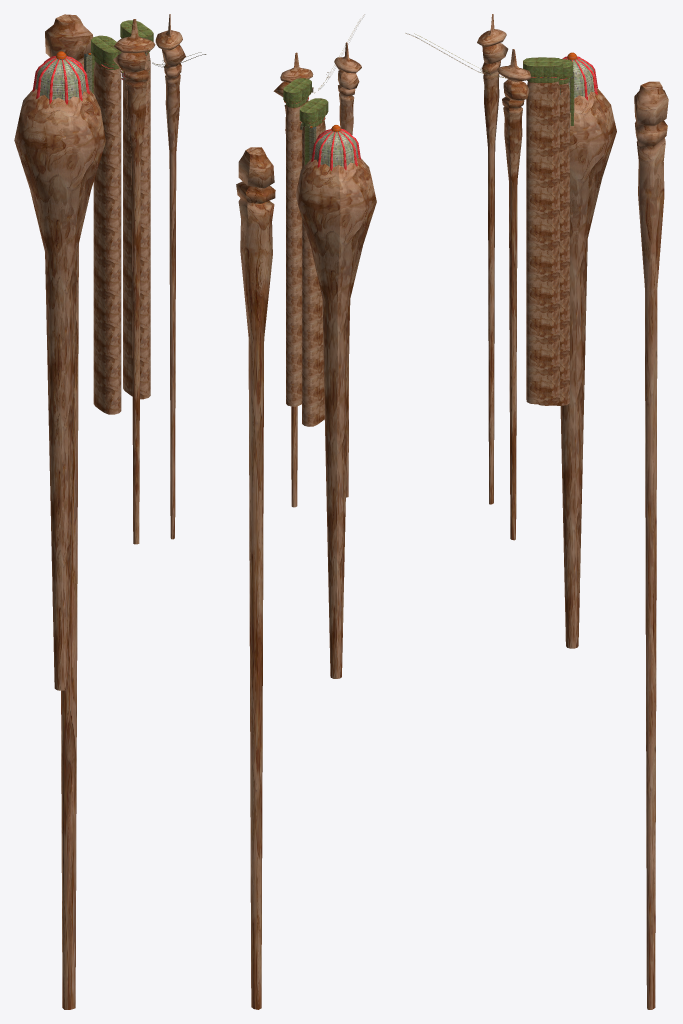
Rendered from Bullet Station 8.fbx.
3 views of the same model, side by side, from view 1: azimuth 30°, elevation 25°; view 2: azimuth 150°, elevation 25°; view 3: azimuth 270°, elevation 25° (orthographic). The views are drawn at different scales.
Visible parts, largest first — view 1: STG08_ON_08; view 2: STG08_ON_08; view 3: STG08_ON_08.
Part boxes in pixels (box(x1,y1,x2,y2)): STG08_ON_08: box(14, 14, 206, 1009); STG08_ON_08: box(236, 14, 376, 1009); STG08_ON_08: box(405, 14, 668, 1009).
Size of the model in its own units: 681948 by 5057299 by 1226086.
